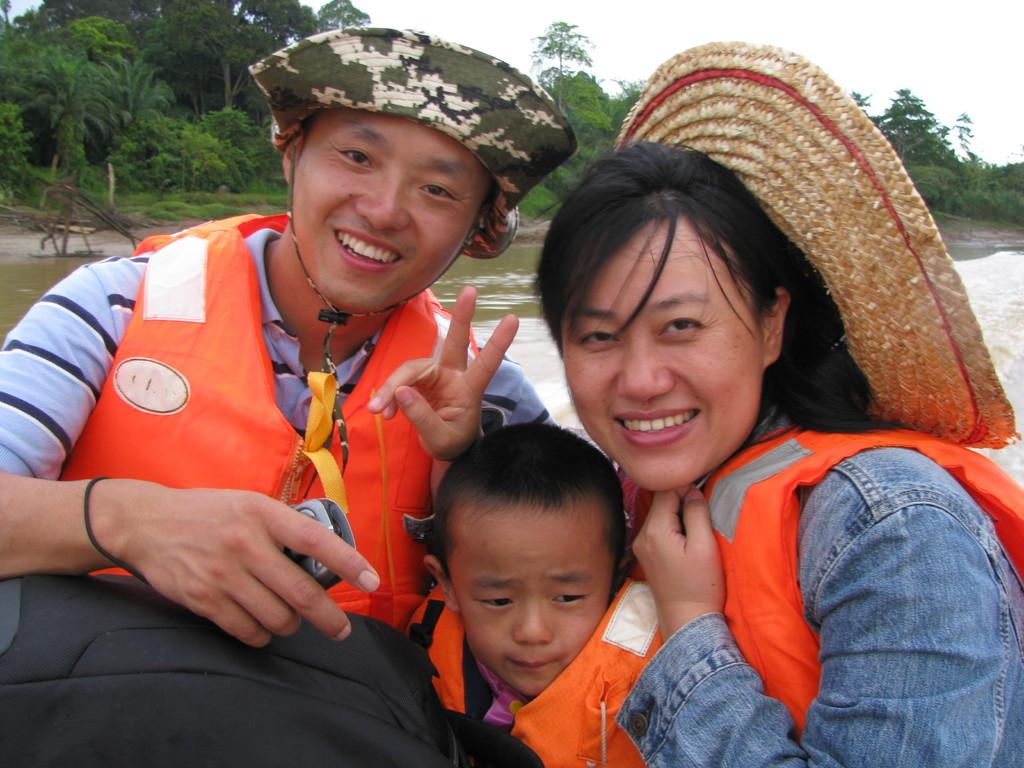Hat: (614, 36, 1016, 448), (246, 25, 578, 262)
